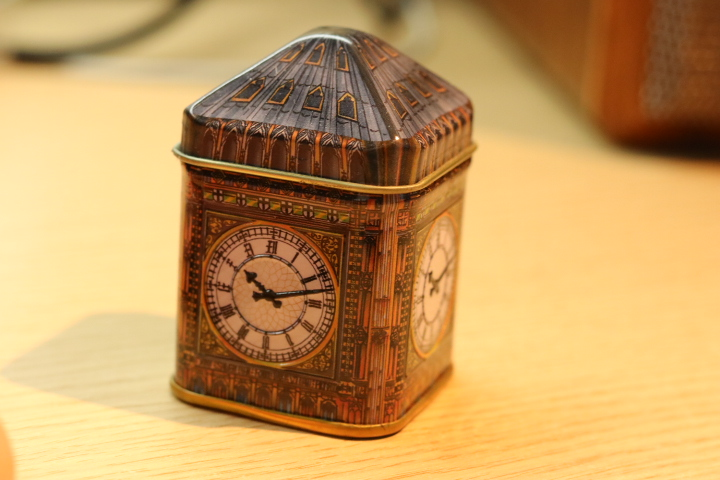Big Ben: (162, 18, 493, 452)
